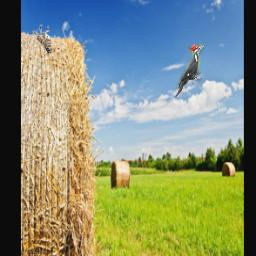Sparrow: (33, 26, 53, 54)
Woodpecker: (174, 44, 204, 97)
